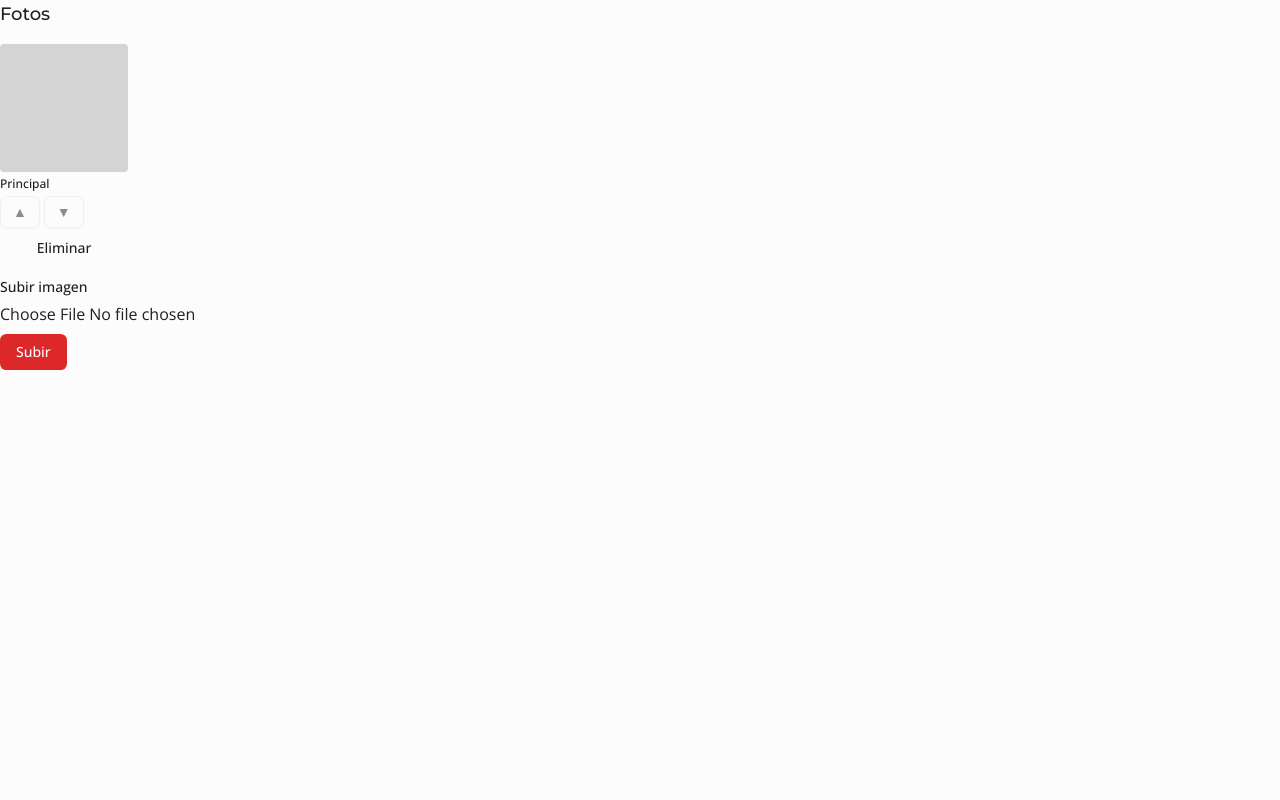
Test: ProductImageManager › pide confirmación antes de eliminar una imagen
Click the button "Eliminar" at {"x": 64, "y": 248}, box [0,232,128,264]
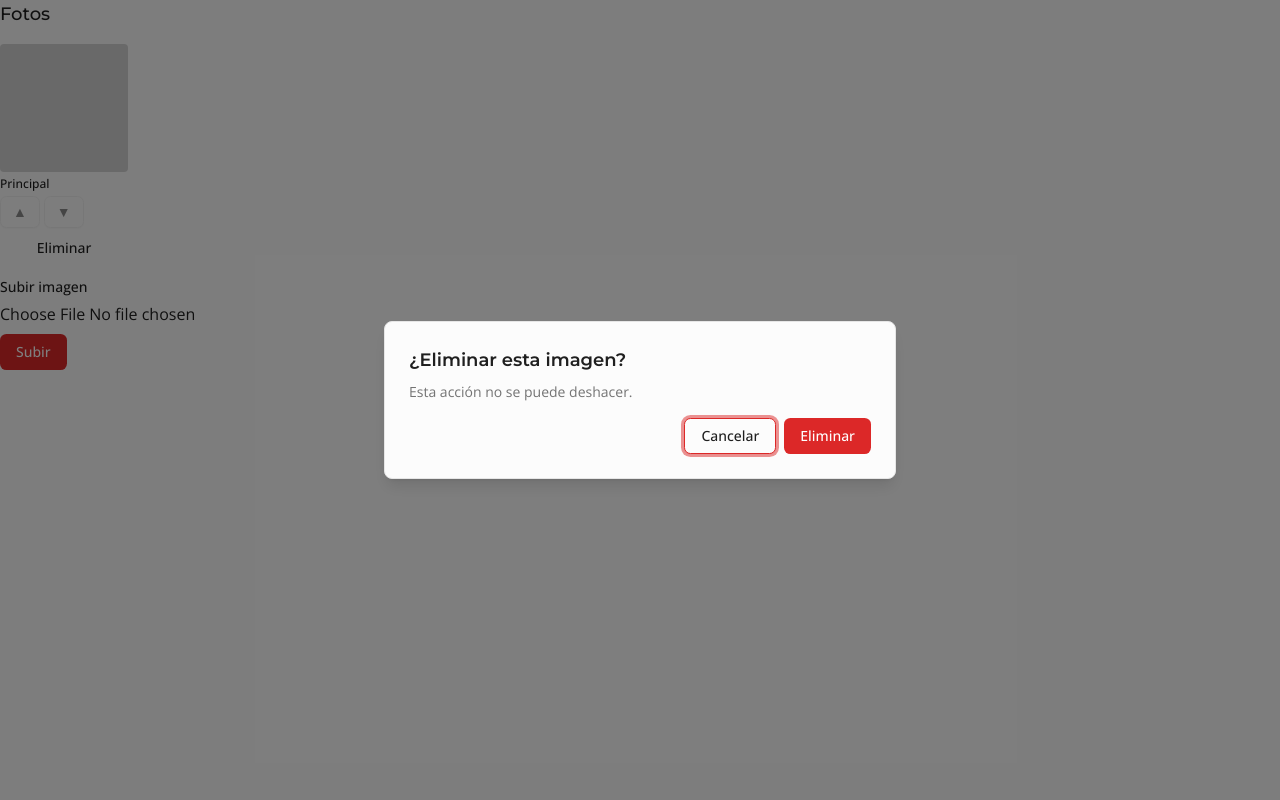
Result: the heading "¿Eliminar esta imagen?" is shown at [409,349,626,371]
Result: the text "Esta acción no se puede deshacer." is shown at [409,382,633,401]
Click the button "Cancelar" at {"x": 730, "y": 436}, box [684,418,776,454]
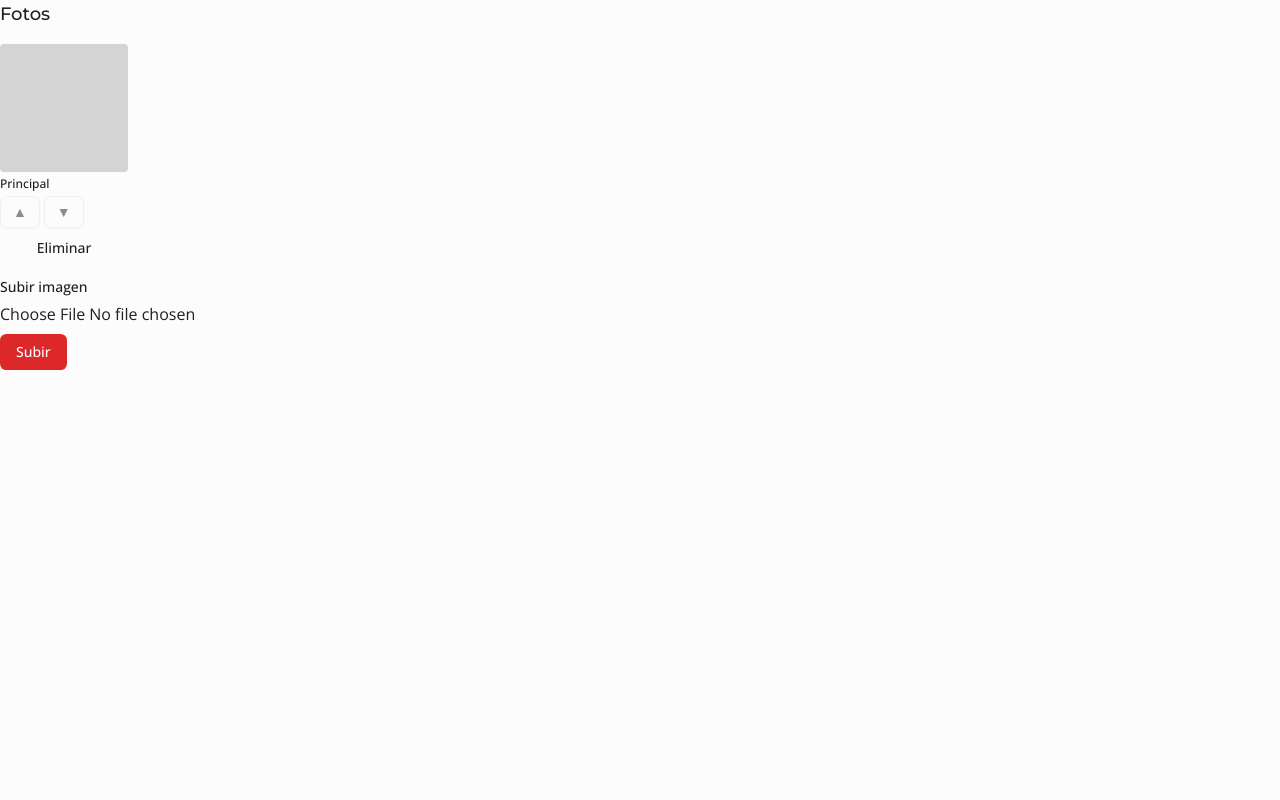
Result: the heading "¿Eliminar esta imagen?" is gone
